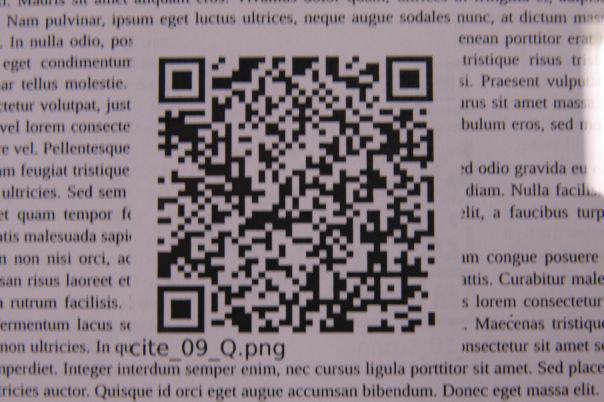Finder pattern: (151, 280, 209, 338), (151, 51, 210, 107), (381, 51, 437, 107)
